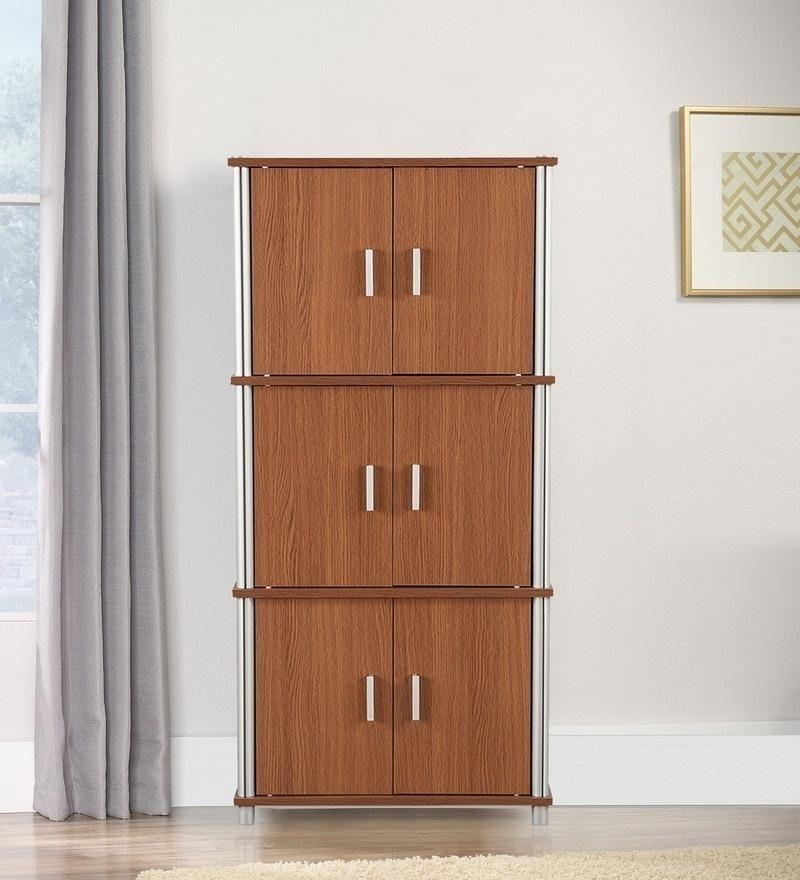cabinet_door: (255, 167, 393, 364), (402, 165, 539, 362), (404, 395, 538, 588), (259, 397, 393, 587), (260, 608, 392, 797), (403, 608, 535, 796)
handle: (360, 460, 379, 520), (406, 667, 425, 726), (360, 669, 379, 728), (360, 241, 378, 301), (407, 458, 425, 515), (407, 243, 424, 302)
